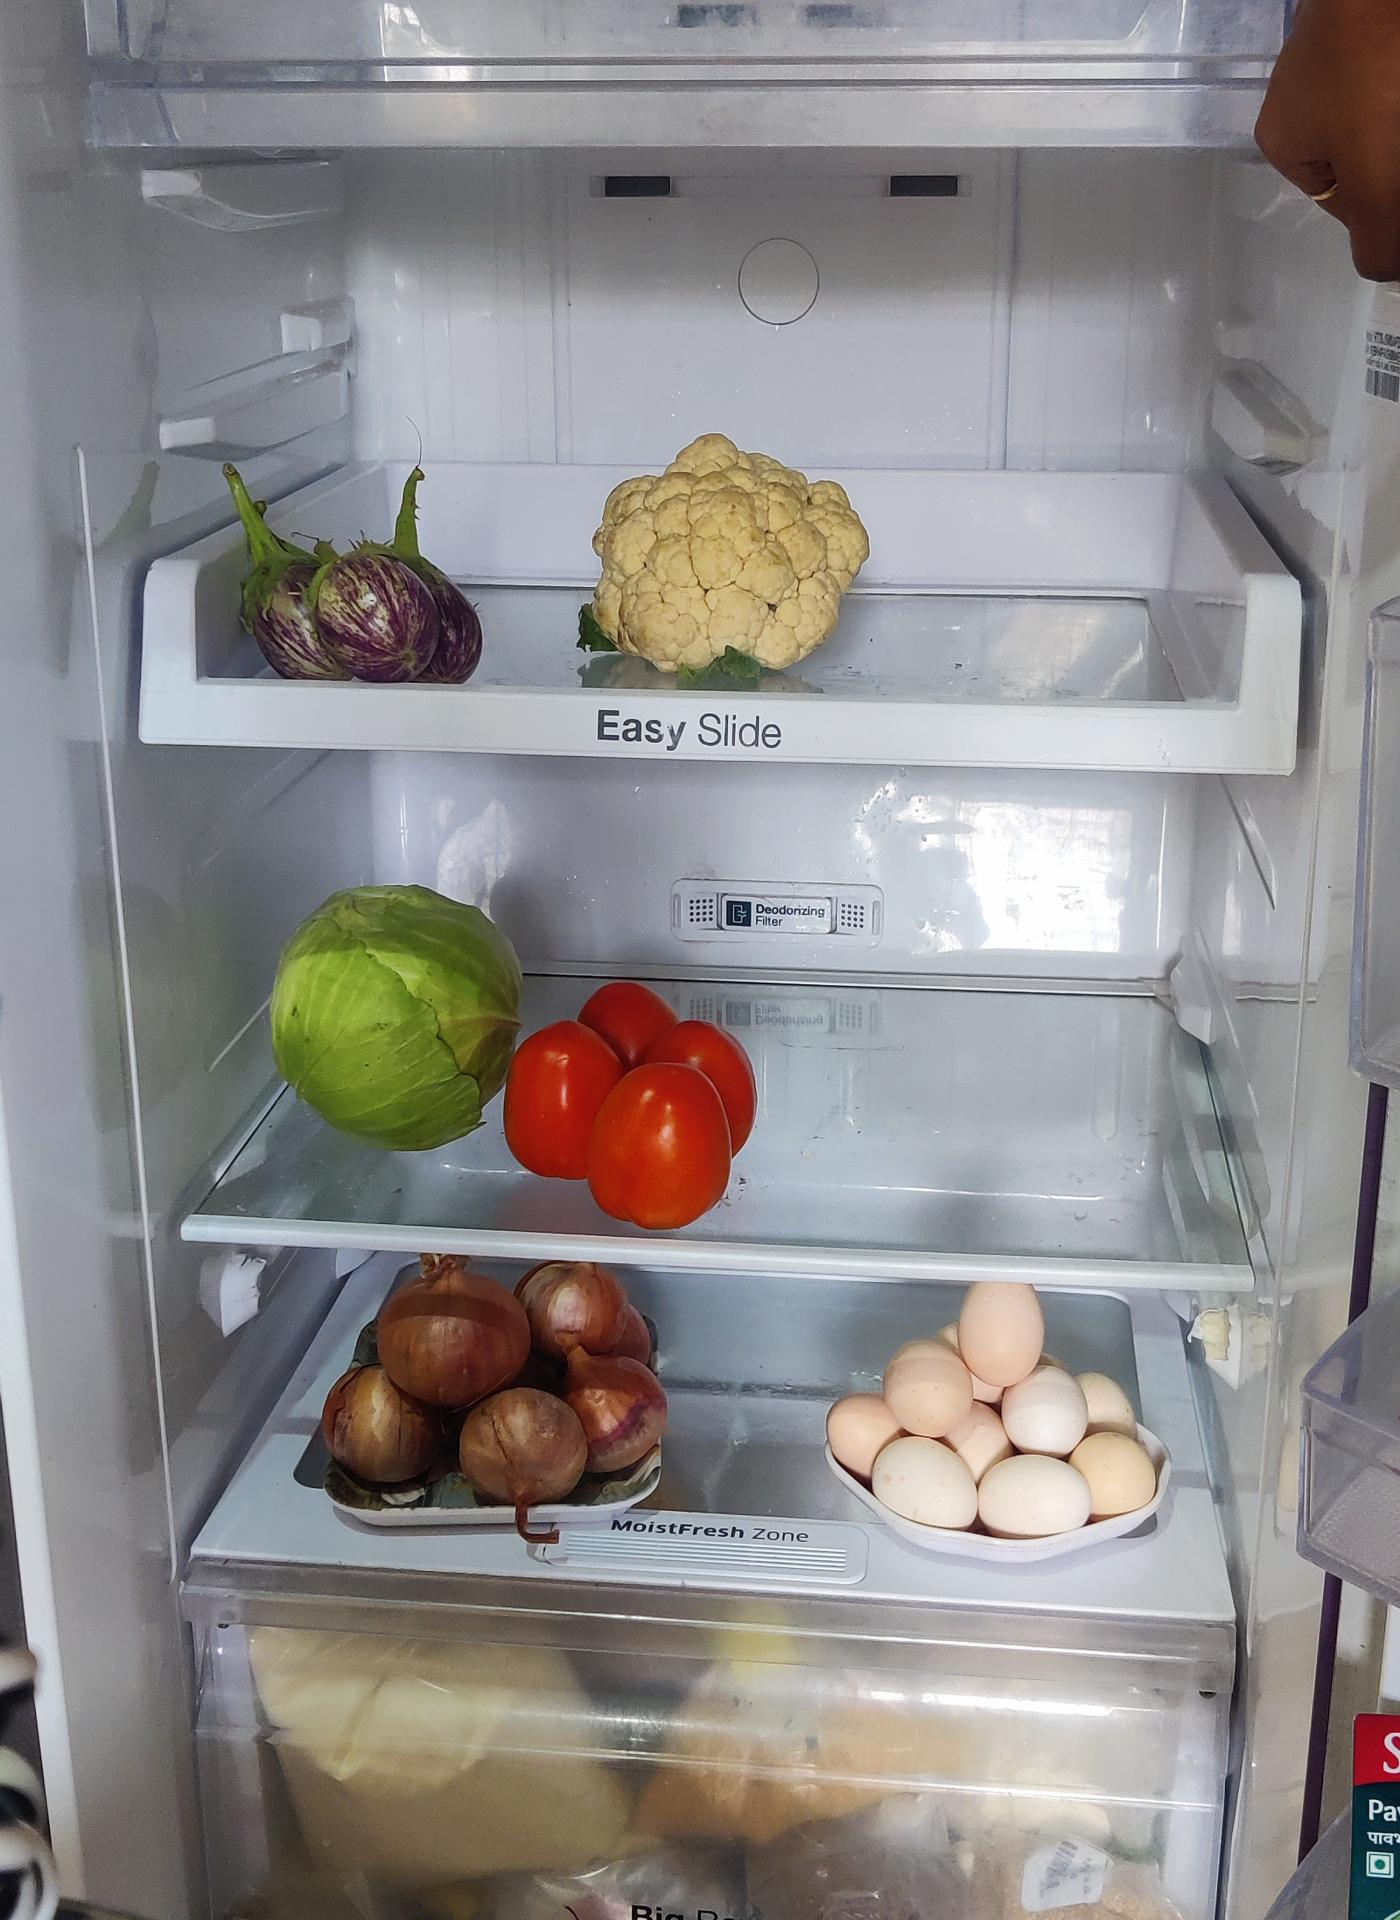brinjal: (222, 477, 477, 674)
cabbage: (274, 880, 528, 1140)
cauliflower: (592, 438, 875, 677)
egg: (822, 1272, 1160, 1525)
onion: (319, 1267, 666, 1513)
tomato: (505, 970, 759, 1219)
